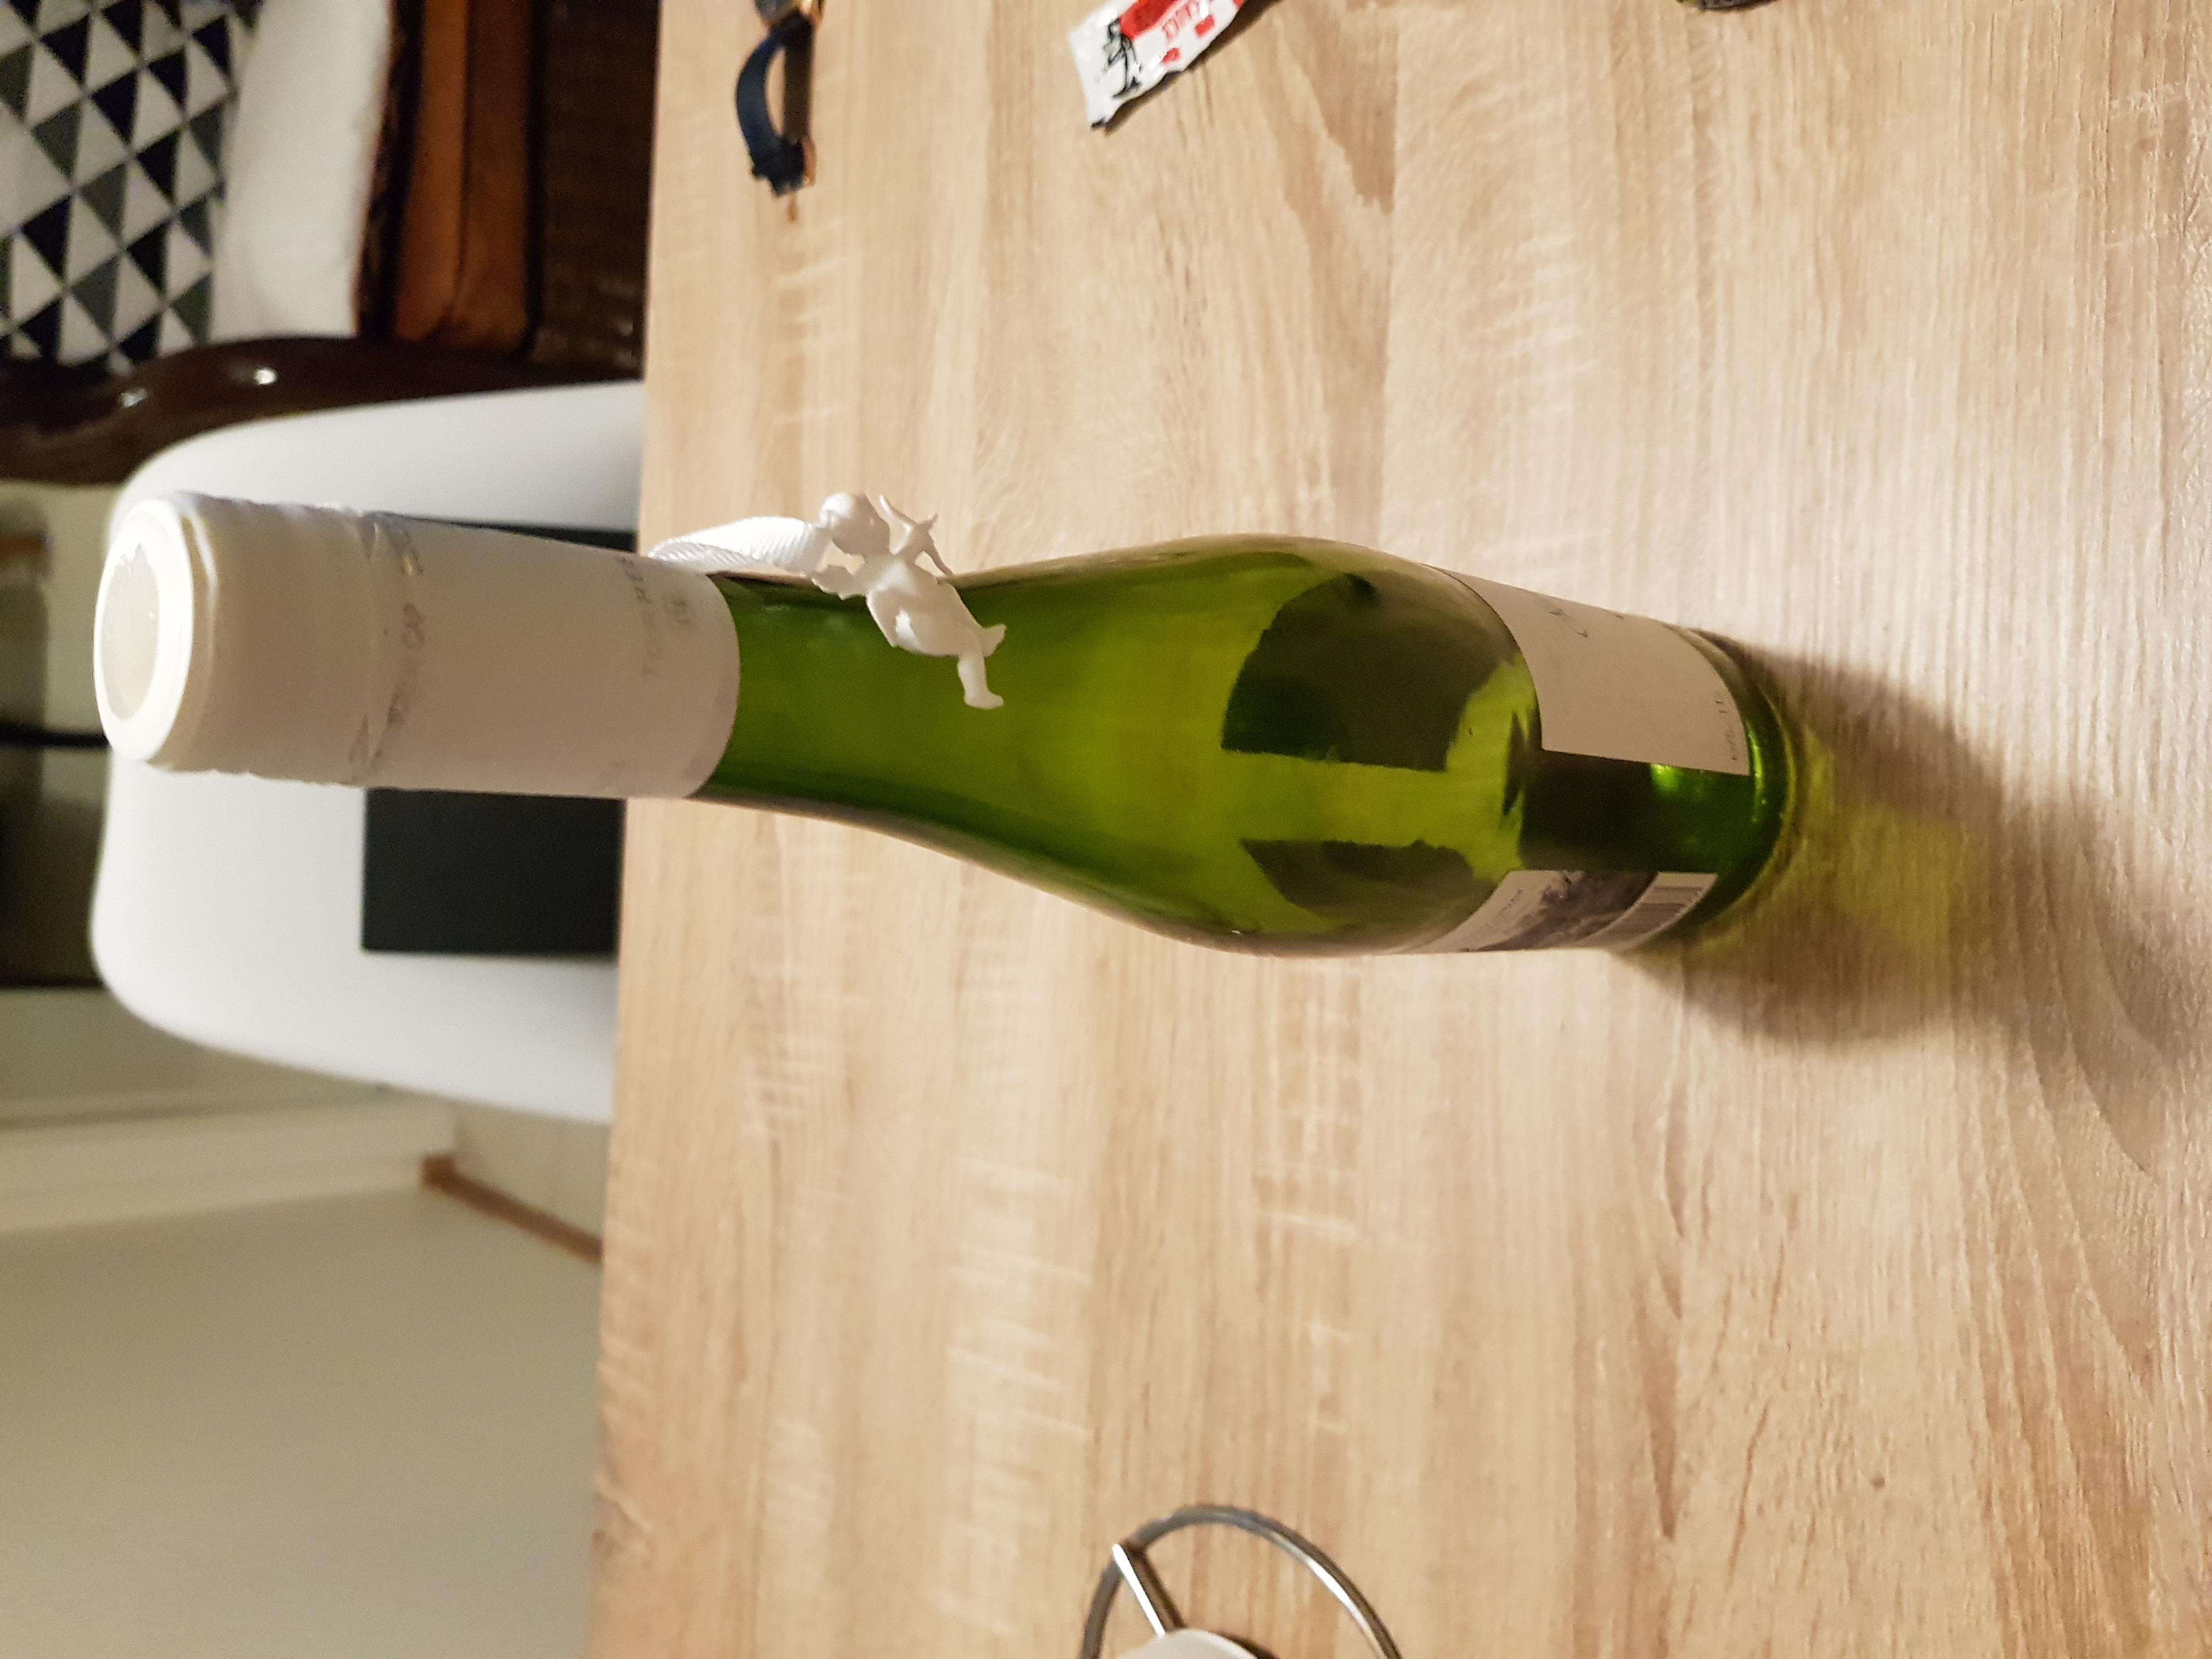Bottle: (85, 483, 1787, 958)
